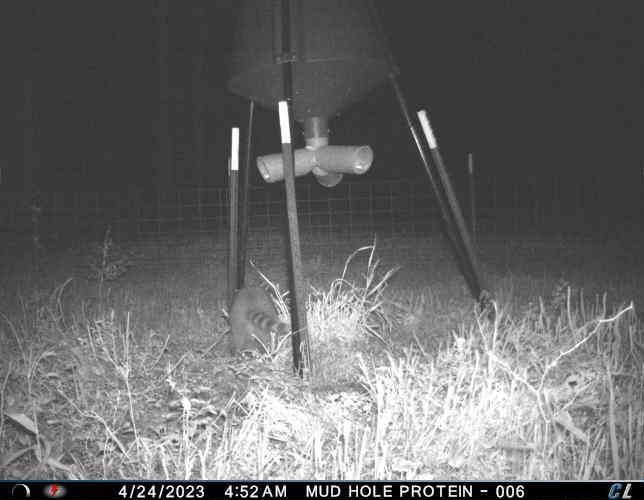Raccoon: (224, 282, 292, 359)
